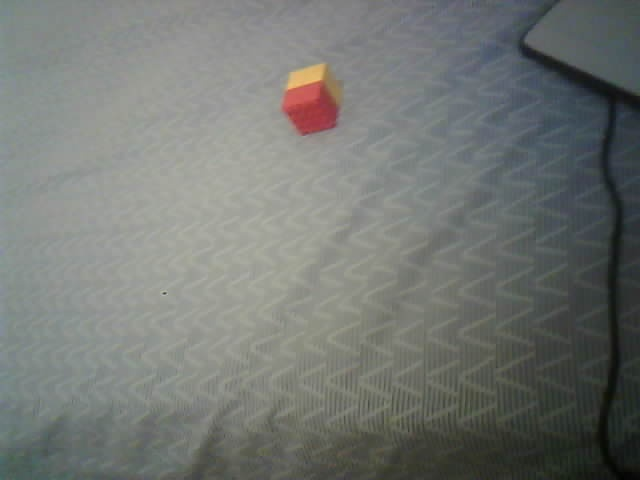lego: (280, 62, 342, 137)
